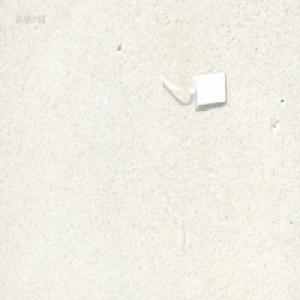LuggageTag: (156, 68, 228, 111)
